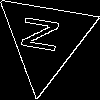N: (20, 13, 69, 57)
